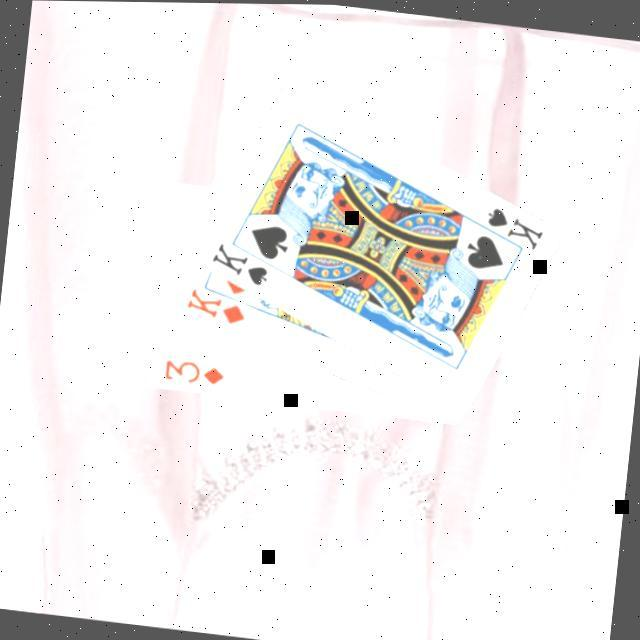3D: (162, 357, 230, 392)
KD: (182, 284, 252, 330)
KS: (471, 202, 548, 256), (207, 240, 274, 292)
